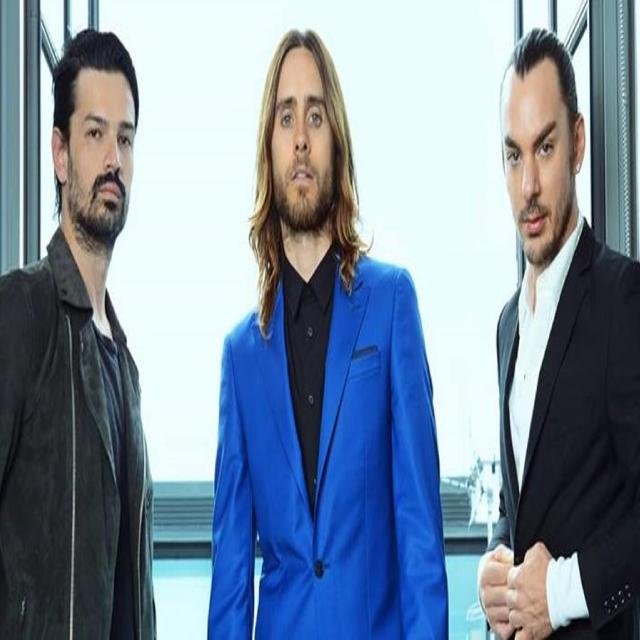Face: (499, 70, 575, 258), (265, 55, 343, 227), (67, 59, 137, 239)
